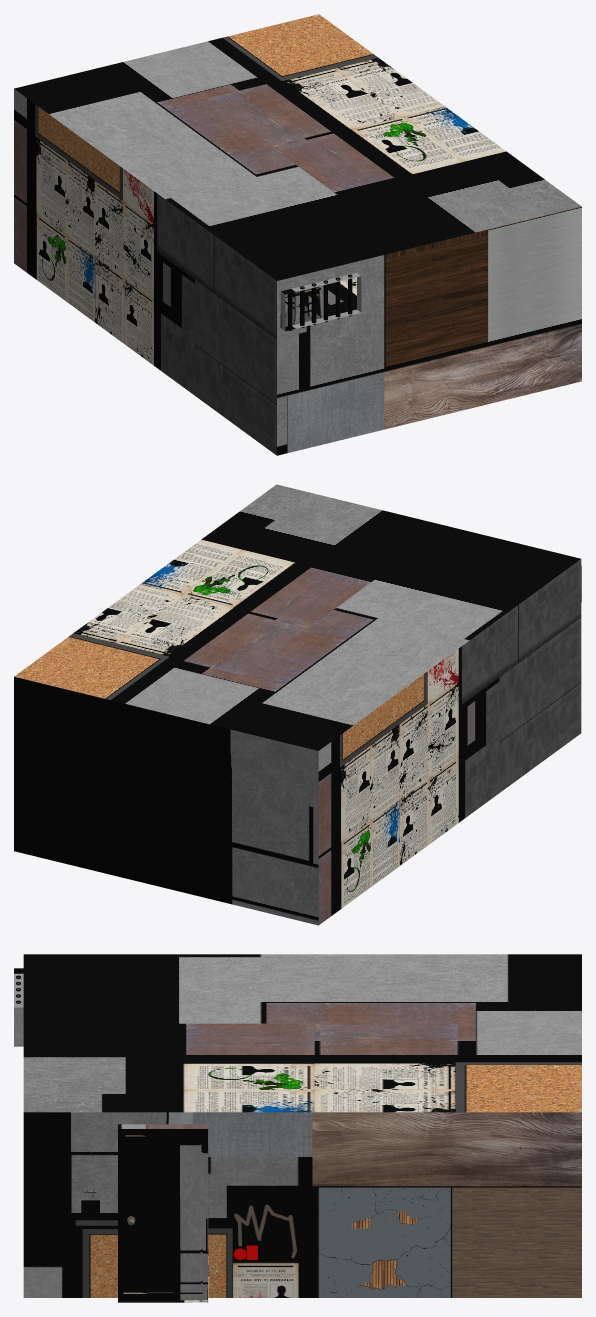
Rendered from Environment_Final.obj.
3 renders of one model, top to bottom at view 1: azimuth 30°, elevation 25°; view 2: azimuth 150°, elevation 25°; view 3: azimuth 270°, elevation 25°, orthographic. The views are drawn at different scales.
Visible parts, largest first — view 1: set2 Environment_5:Room1, Environment_5:Room1; view 2: set2 Environment_5:Room1; view 3: set2 Environment_5:Room1, Environment_5:Room1.
Boxes of the visible parts, bbox=[...] form: set2 Environment_5:Room1: bbox=[14, 14, 581, 455]; Environment_5:Room1: bbox=[277, 206, 581, 455]; set2 Environment_5:Room1: bbox=[14, 484, 581, 925]; set2 Environment_5:Room1: bbox=[16, 954, 581, 1302]; Environment_5:Room1: bbox=[14, 968, 208, 1300].
Bounding box in the file's own units: 6.94 × 3.67 × 10.2.
